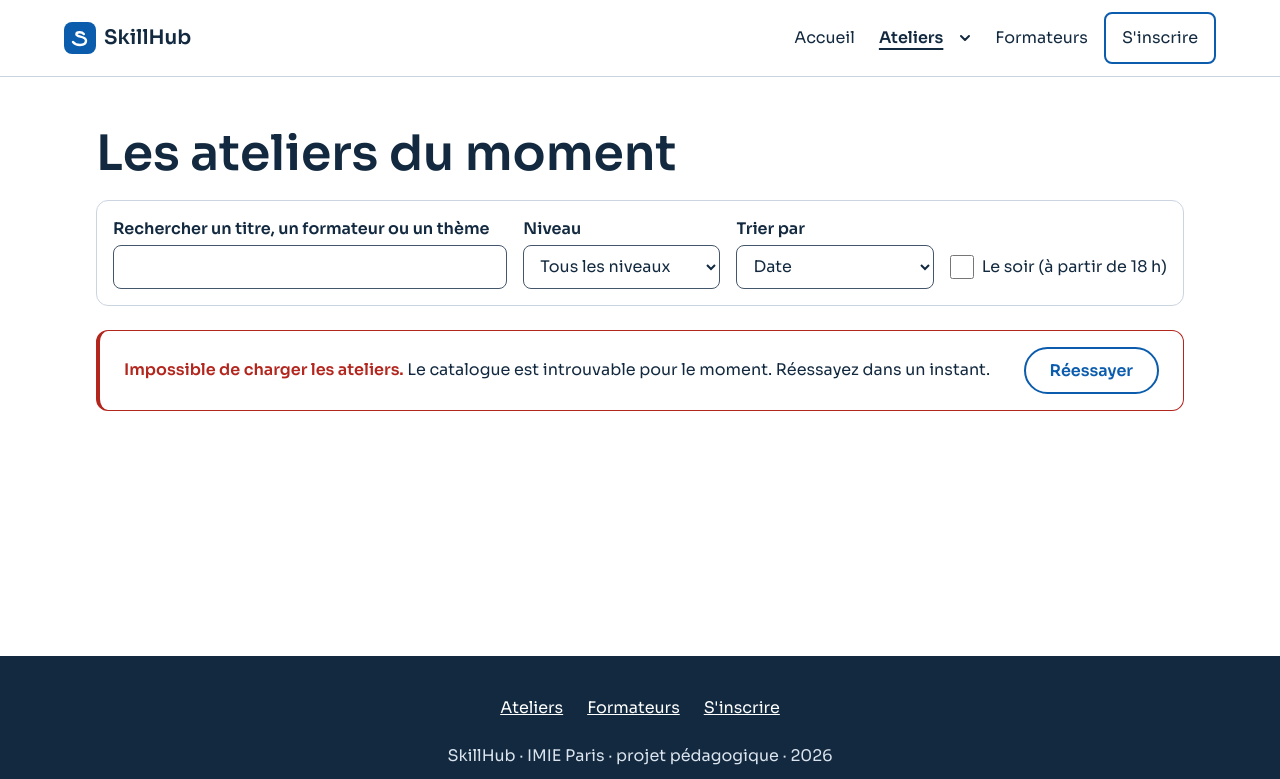
it: Catalogue : les quatre états › erreur 404 : une phrase sans code (role=alert), « Réessayer » relance et réussit
The image size is (1280, 779).
Expected: the message shows "Le catalogue est introuvable pour le moment.", [407,359,990,380]
Expected: the message does not show "404", [124,358,990,382]
Click the button "Réessayer" at coordinates (1091, 370), box [1024,347,1159,394]
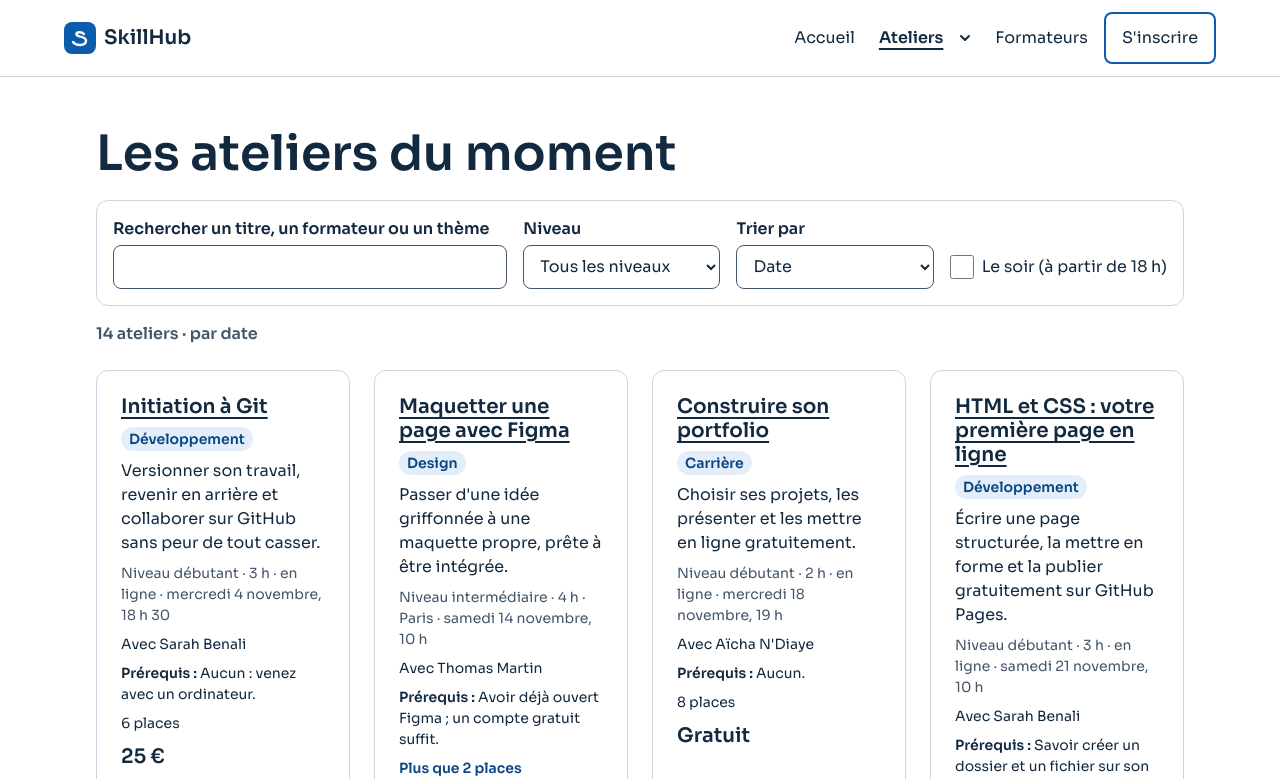
Now the text "14 ateliers · par date" is shown, box [96,323,258,344]
